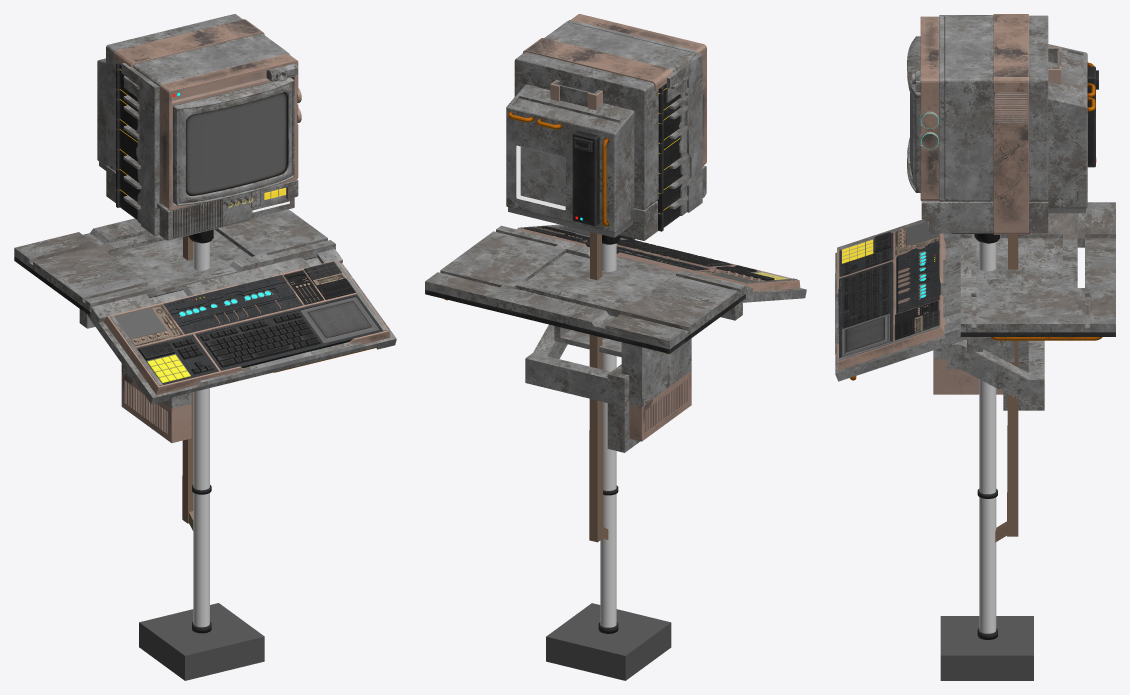
File: retro_computer.glb
3 renders of one model, left to right at view 1: azimuth 30°, elevation 25°; view 2: azimuth 150°, elevation 25°; view 3: azimuth 270°, elevation 25°, orthographic.
Visible parts, largest first — view 1: Object_11, Object_4, Object_5, Object_6, Object_19, Object_22, Object_8, Object_28, Object_9, Object_18, Object_26, Object_20 (+7 smaller); view 2: Object_8, Object_11, Object_19, Object_4, Object_28, Object_10, Object_6, Object_26, Object_18, Object_27, Object_7, Object_20 (+4 smaller); view 3: Object_8, Object_11, Object_4, Object_19, Object_28, Object_26, Object_22, Object_18, Object_6, Object_20, Object_9, Object_27 (+8 smaller).
Boxes of the visible parts, x1=… form: Object_11: x1=14, y1=209, x2=335, y2=311; Object_4: x1=114, y1=19, x2=301, y2=443; Object_5: x1=186, y1=92, x2=371, y2=338; Object_6: x1=106, y1=63, x2=298, y2=240; Object_19: x1=79, y1=249, x2=396, y2=408; Object_22: x1=137, y1=275, x2=382, y2=384; Object_8: x1=97, y1=14, x2=285, y2=171; Object_28: x1=139, y1=603, x2=264, y2=680; Object_9: x1=123, y1=51, x2=294, y2=209; Object_18: x1=14, y1=256, x2=341, y2=374; Object_26: x1=193, y1=241, x2=209, y2=627; Object_20: x1=103, y1=260, x2=390, y2=394; Object_8: x1=506, y1=22, x2=695, y2=232; Object_11: x1=425, y1=225, x2=745, y2=349; Object_19: x1=520, y1=224, x2=806, y2=452; Object_4: x1=522, y1=14, x2=706, y2=441; Object_28: x1=546, y1=603, x2=671, y2=680; Object_10: x1=572, y1=83, x2=682, y2=240; Object_6: x1=553, y1=19, x2=706, y2=240; Object_26: x1=600, y1=243, x2=616, y2=627; Object_18: x1=425, y1=227, x2=774, y2=353; Object_27: x1=589, y1=232, x2=608, y2=542; Object_7: x1=516, y1=146, x2=789, y2=279; Object_20: x1=517, y1=227, x2=800, y2=291; Object_8: x1=944, y1=15, x2=1087, y2=208; Object_11: x1=960, y1=202, x2=1115, y2=332; Object_4: x1=920, y1=14, x2=1061, y2=394; Object_19: x1=835, y1=219, x2=1044, y2=410; Object_28: x1=940, y1=616, x2=1033, y2=680; Object_26: x1=979, y1=241, x2=996, y2=633; Object_22: x1=838, y1=233, x2=940, y2=358; Object_18: x1=843, y1=232, x2=1115, y2=336; Object_6: x1=912, y1=15, x2=1059, y2=233; Object_20: x1=837, y1=225, x2=945, y2=370; Object_9: x1=907, y1=15, x2=944, y2=201; Object_27: x1=995, y1=235, x2=1018, y2=542.
Bounding box in the file's own units: 6.16 × 14.52 × 6.
25 materials, 15 textured.
